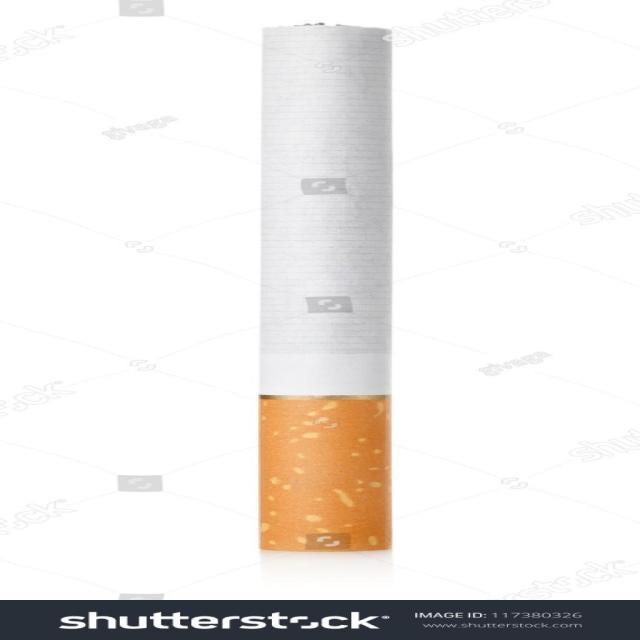smoking: (254, 23, 401, 557)
